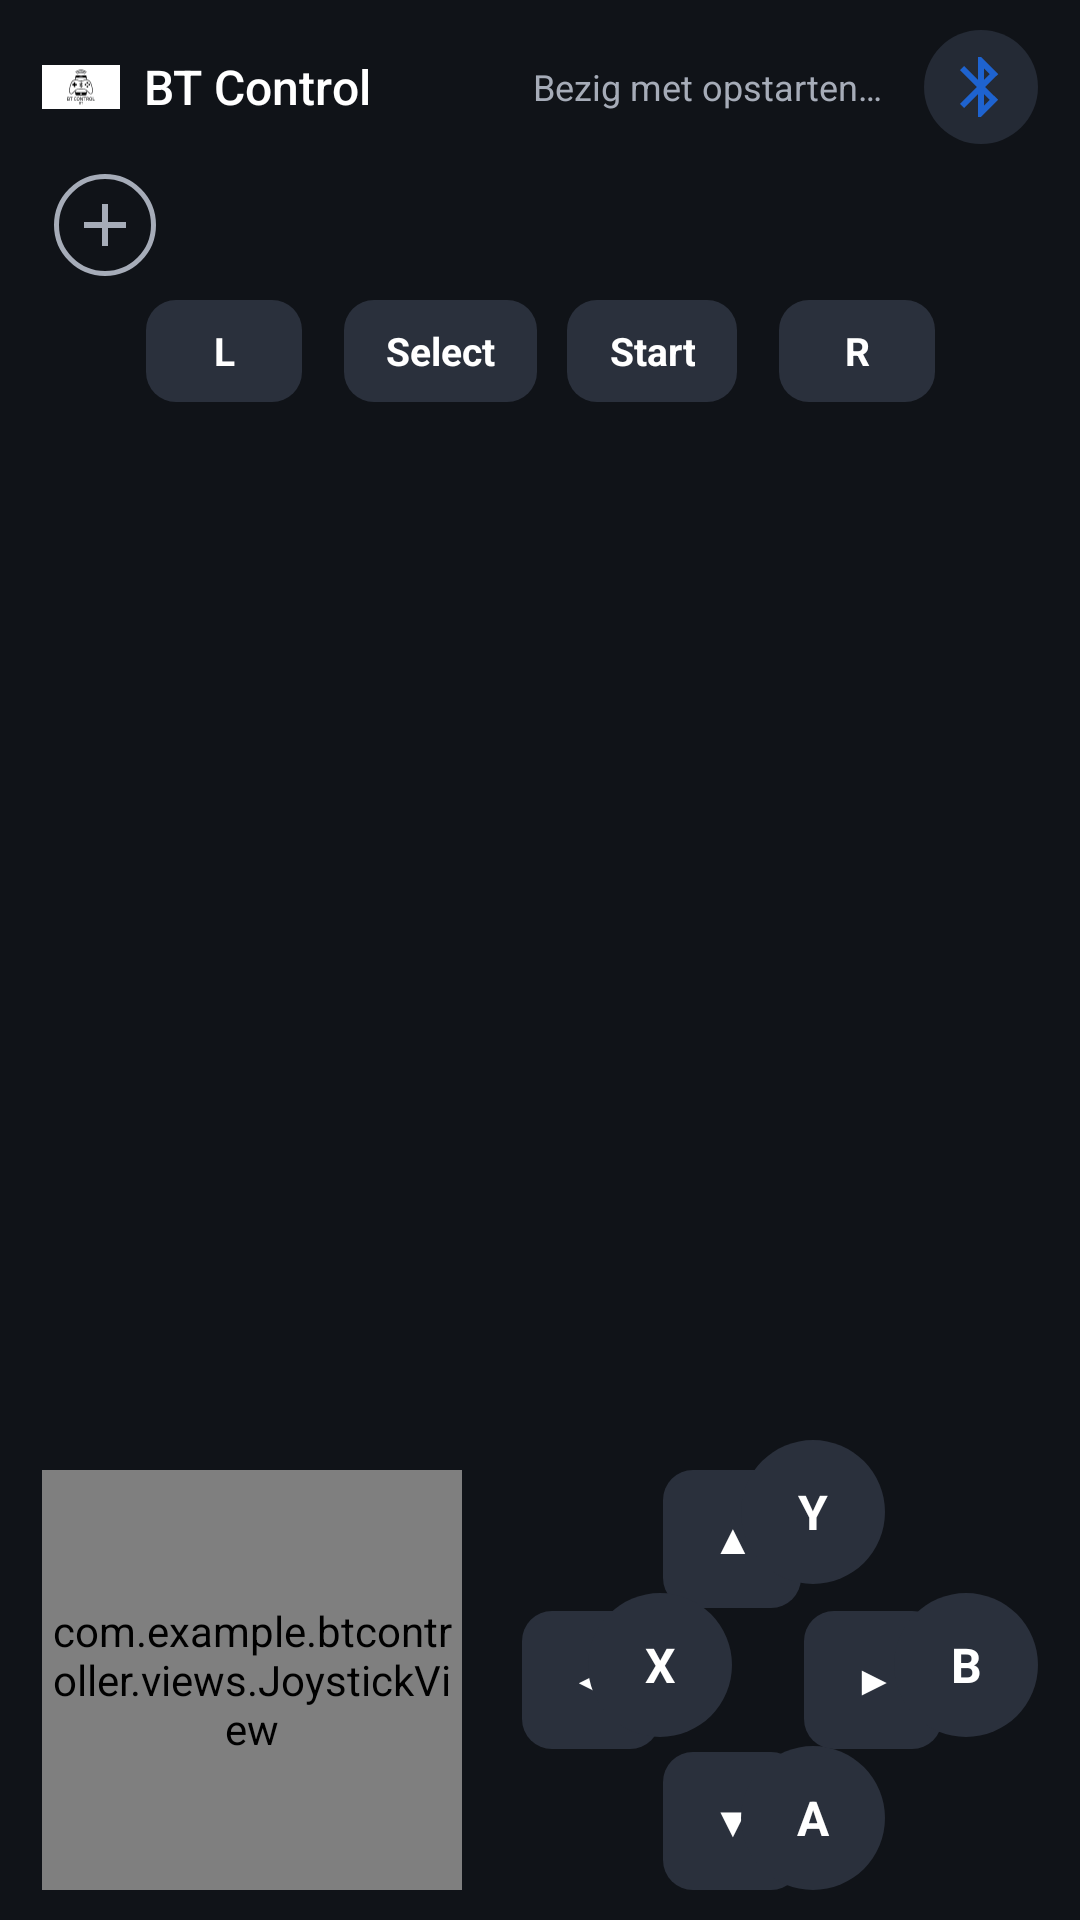

Screen size 1080 × 1920. Icon name, then its center in pixels as [x,y]:
Knop toevoegen: [105,225]
